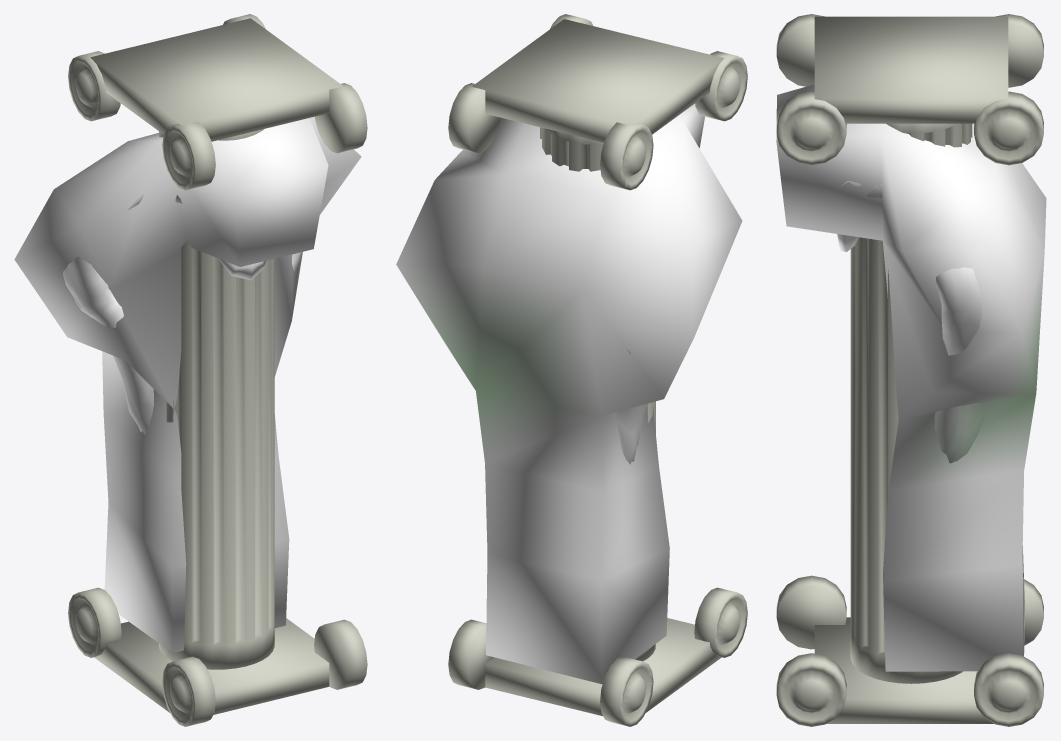
The model's file is column.dae.
3 renders of one model, left to right at view 1: azimuth 30°, elevation 25°; view 2: azimuth 150°, elevation 25°; view 3: azimuth 270°, elevation 25°, orthographic. The views are drawn at different scales.
Parts seen in each view (by area): view 1: column, Cube__hires_, Cube__lores_; view 2: Cube__hires_, column, Cube__lores_; view 3: Cube__hires_, column, Cube__lores_.
Part boxes in pixels (x1,y1,x2,y2): column: [68, 14, 367, 726]; Cube__hires_: [14, 116, 361, 652]; Cube__lores_: [63, 193, 302, 433]; Cube__hires_: [396, 103, 742, 684]; column: [448, 14, 747, 726]; Cube__lores_: [615, 349, 648, 464]; Cube__hires_: [776, 84, 1046, 671]; column: [776, 14, 1043, 726]; Cube__lores_: [836, 181, 991, 463].
Size of the model in its own units: 5.94 by 4.45 by 11.37.
